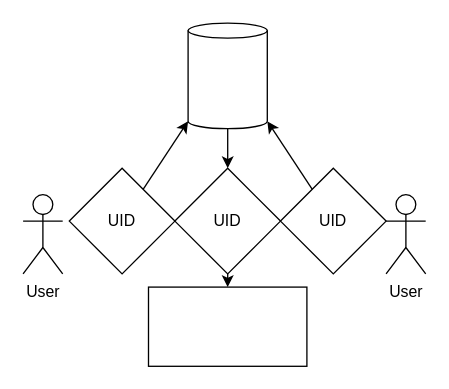
Image size: 449x389. Some labels were removed from this diagram. Each missing label, with the centre of its shape:
name: string avatar: string email: string: point 227,326
users: point 227,75
